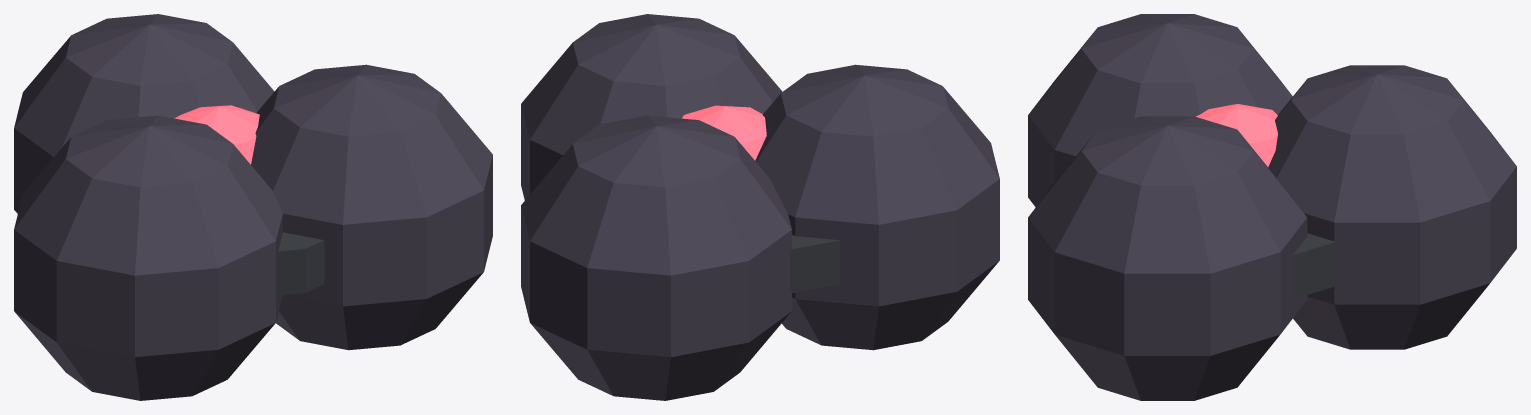
The model's file is enemy_splitter.glb.
3 renders of one model, left to right at view 1: azimuth 30°, elevation 25°; view 2: azimuth 150°, elevation 25°; view 3: azimuth 270°, elevation 25°, orthographic.
Visible parts, largest first — view 1: enemy_splitter; view 2: enemy_splitter; view 3: enemy_splitter.
Boxes of the visible parts, bbox=[...] form: enemy_splitter: bbox=[14, 14, 492, 400]; enemy_splitter: bbox=[521, 14, 999, 400]; enemy_splitter: bbox=[1028, 14, 1516, 400].
Bounding box in the file's own units: 1.45 × 0.84 × 1.4.
